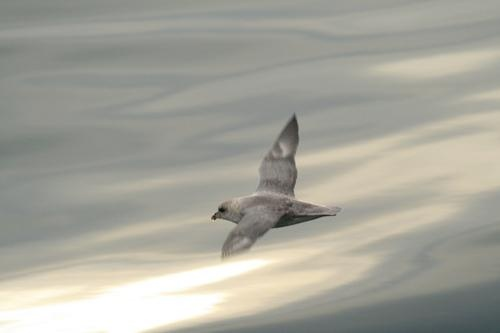bird: (206, 114, 342, 261)
